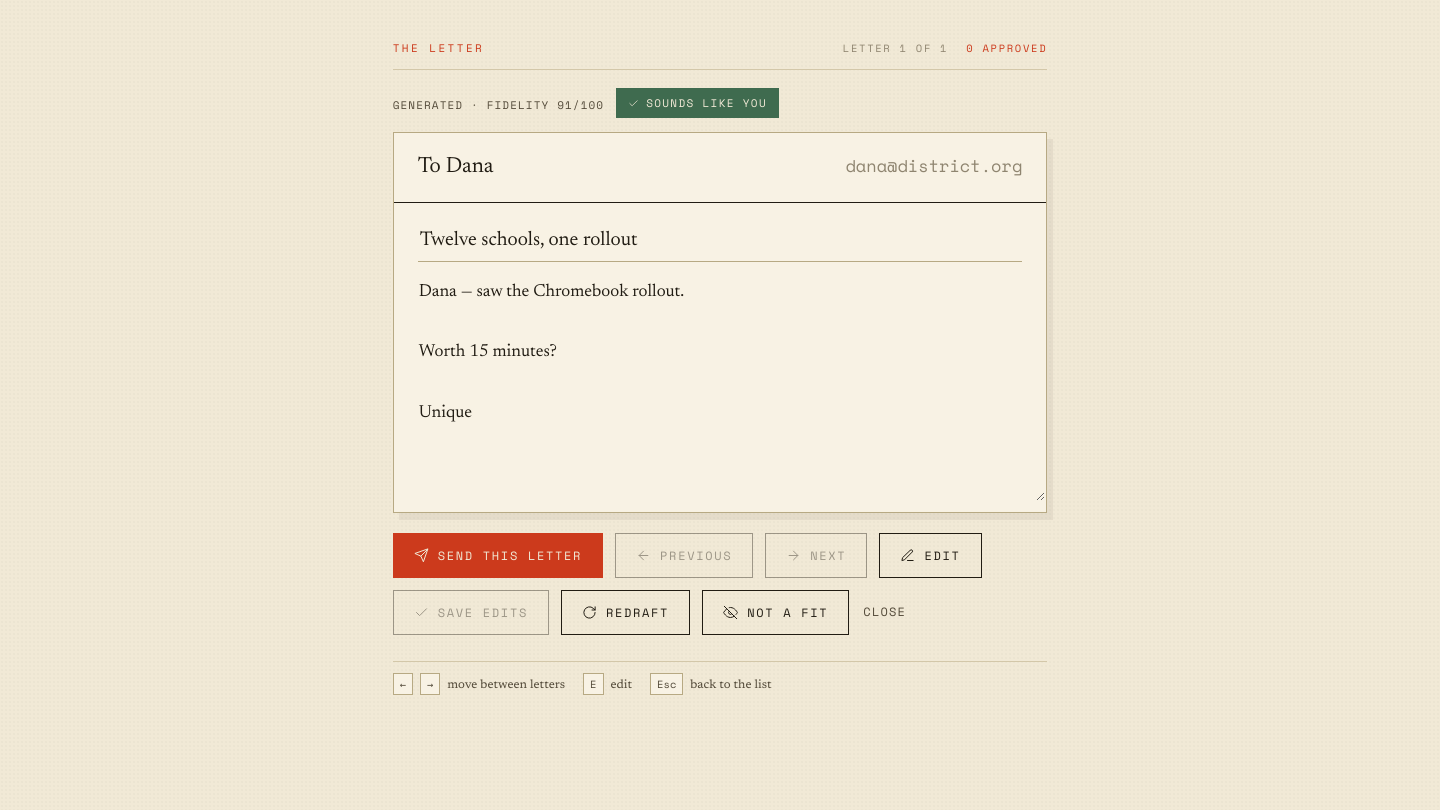
rejecting a letter › asks why before recording anything
The image size is (1440, 810).
Click the button "Not a fit" at (776, 612), box [702, 590, 849, 635]
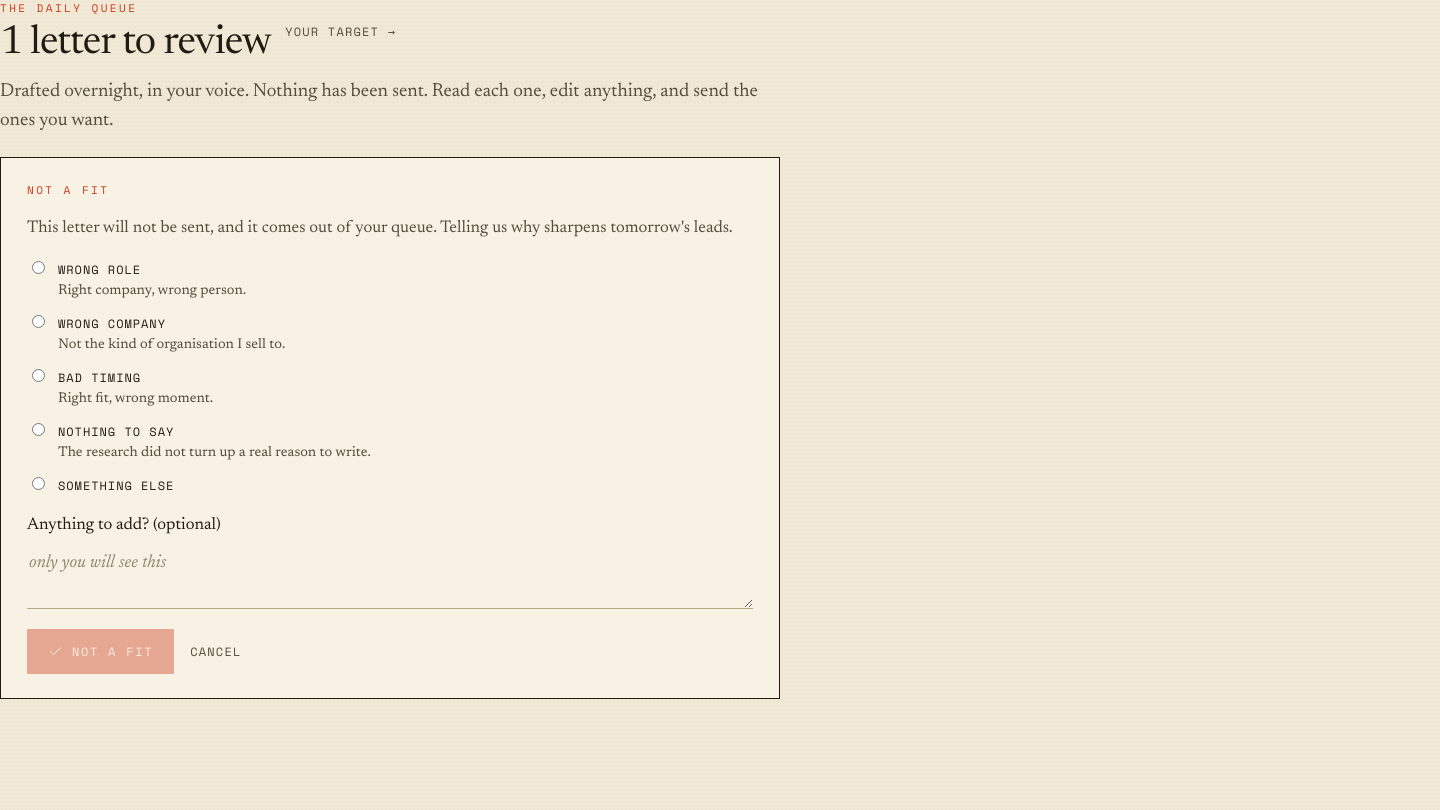
Now the text "Telling us why sharpens" is shown, box [27, 220, 733, 237]
